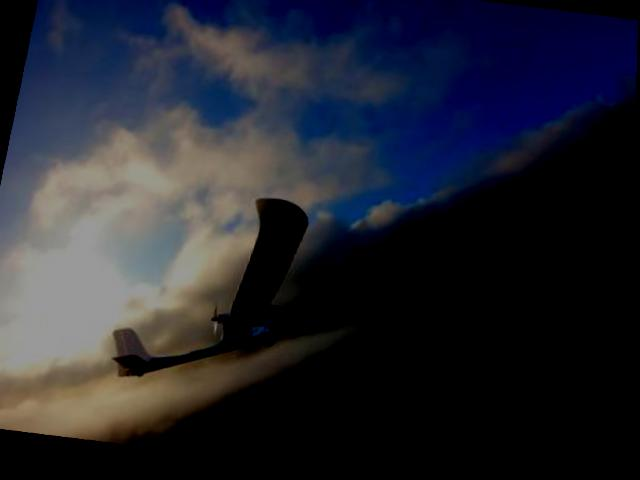uav: (97, 167, 338, 433)
